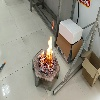fire: (40, 36, 53, 70), (52, 19, 54, 29)
